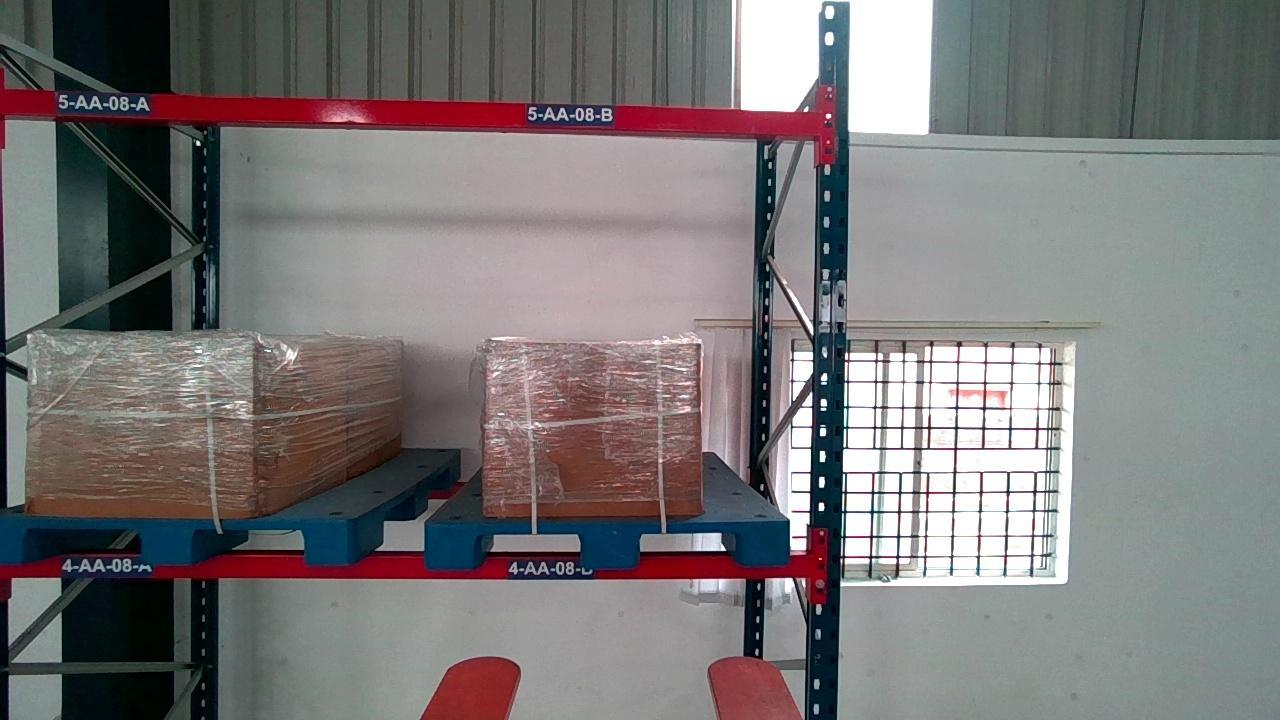h_rack: (1, 87, 825, 136), (2, 554, 818, 578)
small_pallet: (425, 521, 790, 569), (1, 516, 350, 566)
